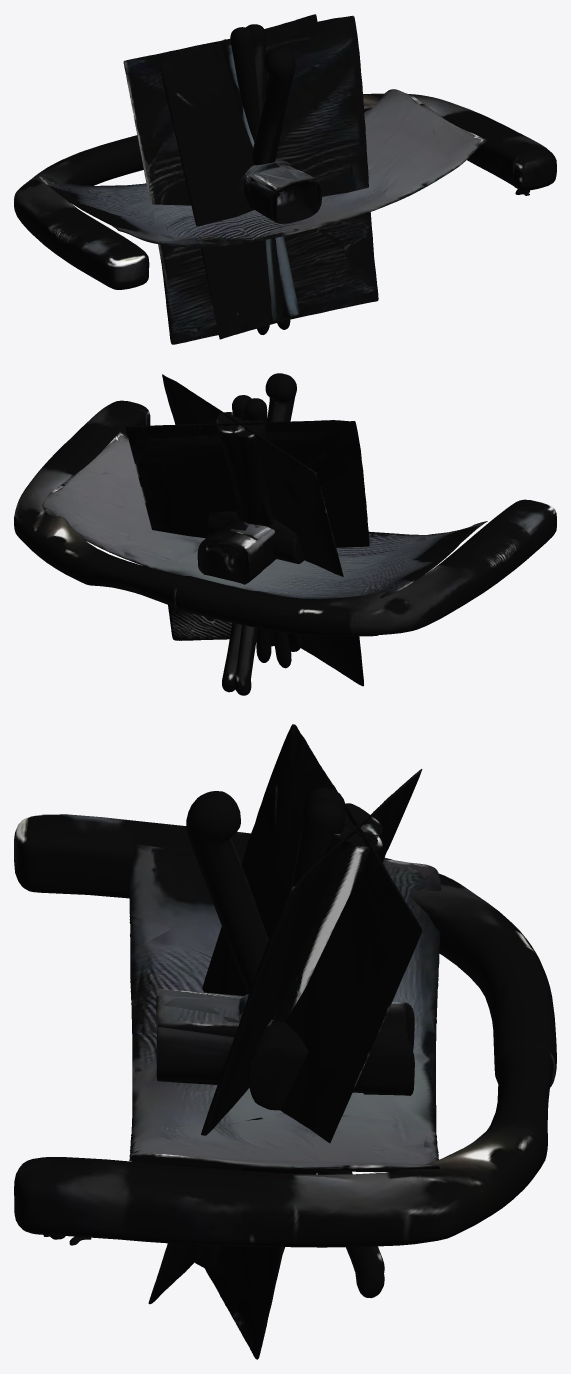
Rendered from NMK.2005.0644_34871.glb.
The picture shows the model from 3 angles, top to bottom: view 1: azimuth 30°, elevation 25°; view 2: azimuth 150°, elevation 25°; view 3: azimuth 270°, elevation 25°; orthographic projection. The views are drawn at different scales.
Visible parts, largest first — view 1: root.1, root.0, root.2, root.3, root.6, root.11, root.7, root.4, root.8, root.9, root.5, root.10; view 2: root.3, root.0, root.2, root.1, root.4, root.7, root.5, root.9, root.6, root.8, root.12, root.11 (+1 smaller); view 3: root.3, root.0, root.2, root.1, root.6, root.7, root.9, root.5, root.8, root.12, root.10, root.4.
Boxes of the visible parts, box(x1,y1,x2,y2) form: root.1: box(123, 15, 378, 344); root.0: box(38, 89, 487, 247); root.2: box(160, 14, 317, 339); root.3: box(14, 93, 556, 289); root.6: box(244, 162, 317, 223); root.11: box(230, 27, 290, 329); root.7: box(245, 160, 322, 223); root.4: box(214, 42, 299, 316); root.8: box(252, 47, 295, 165); root.9: box(264, 48, 288, 163); root.5: box(223, 39, 284, 320); root.10: box(246, 24, 269, 334); root.3: box(14, 400, 556, 636); root.0: box(42, 431, 487, 599); root.2: box(125, 420, 378, 640); root.1: box(162, 374, 363, 686); root.4: box(224, 419, 274, 646); root.7: box(206, 524, 276, 584); root.5: box(216, 412, 302, 651); root.9: box(222, 374, 296, 692); root.6: box(197, 519, 262, 580); root.8: box(234, 373, 283, 695); root.12: box(206, 511, 304, 564); root.11: box(244, 398, 271, 662); root.3: box(14, 814, 556, 1247); root.0: box(129, 844, 441, 1172); root.2: box(150, 724, 422, 1359); root.1: box(148, 769, 422, 1304); root.6: box(156, 994, 414, 1095); root.7: box(156, 988, 414, 1082); root.9: box(186, 791, 384, 1297); root.5: box(275, 822, 382, 1021); root.8: box(186, 794, 384, 1272); root.12: box(247, 1020, 308, 1110); root.10: box(290, 798, 345, 889); root.4: box(193, 803, 382, 1271).
Size of the model in its own units: 21518 by 13058 by 12951.
1 material, 1 textured.
